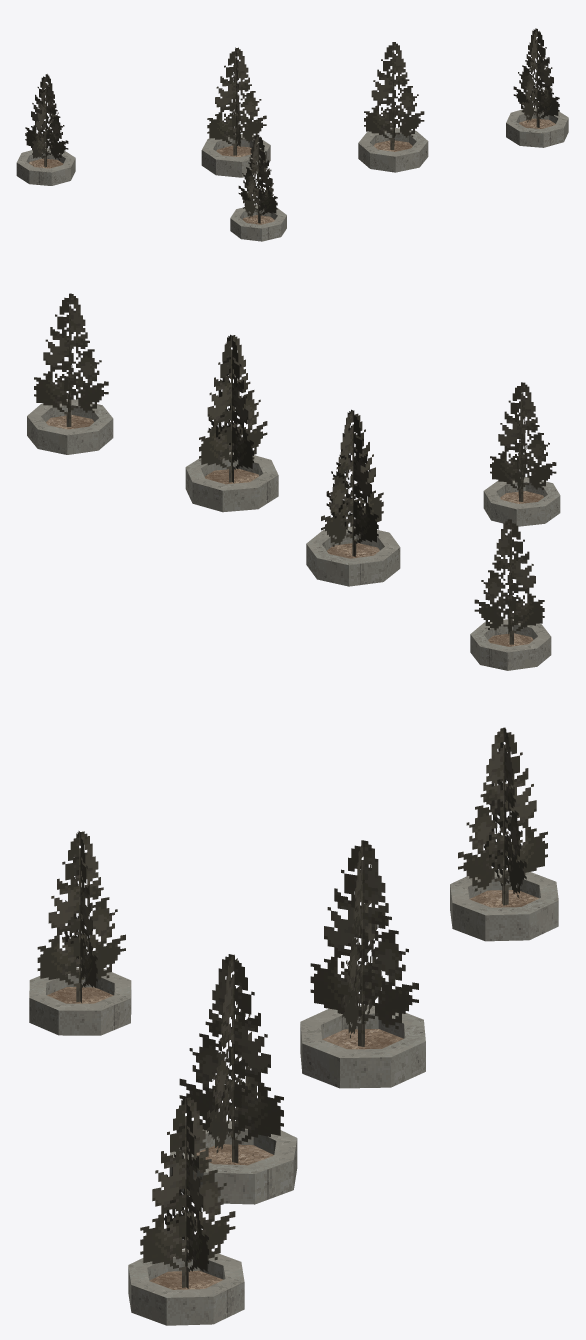
File: procgen-procpain-tree-park-pine-large-xm2z1.obj
The picture shows the model from 3 angles, top to bottom: view 1: azimuth 30°, elevation 25°; view 2: azimuth 150°, elevation 25°; view 3: azimuth 270°, elevation 25°; orthographic projection. The views are drawn at different scales.
Size of the model in its own units: 45.42 by 10.68 by 24.26.
